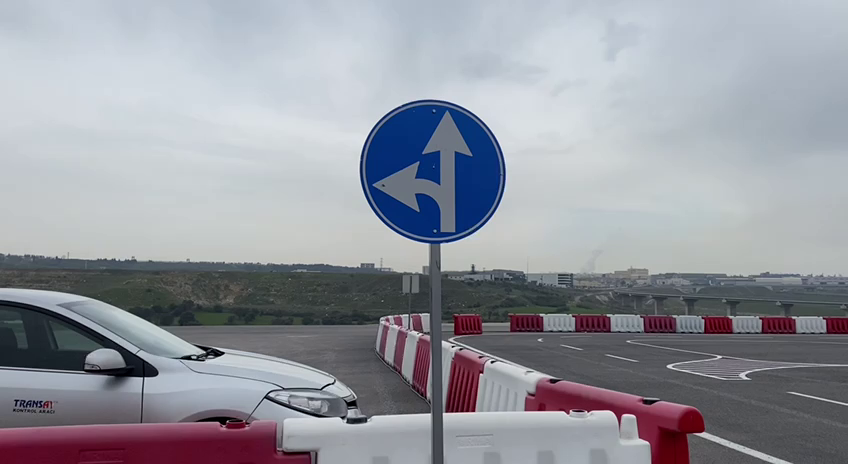forwardAndLeft: (355, 95, 512, 249)
